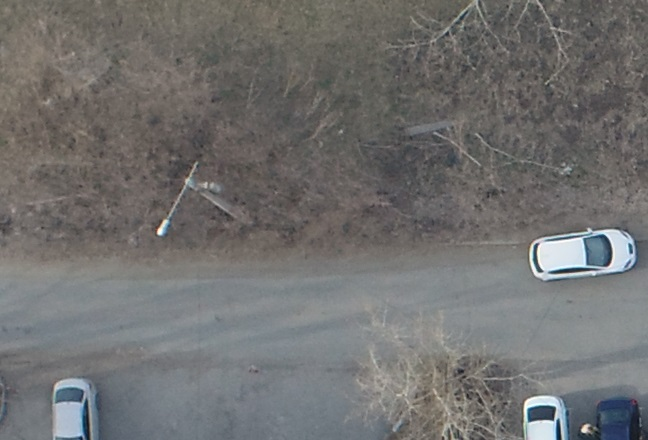opora: (151, 162, 257, 239)
